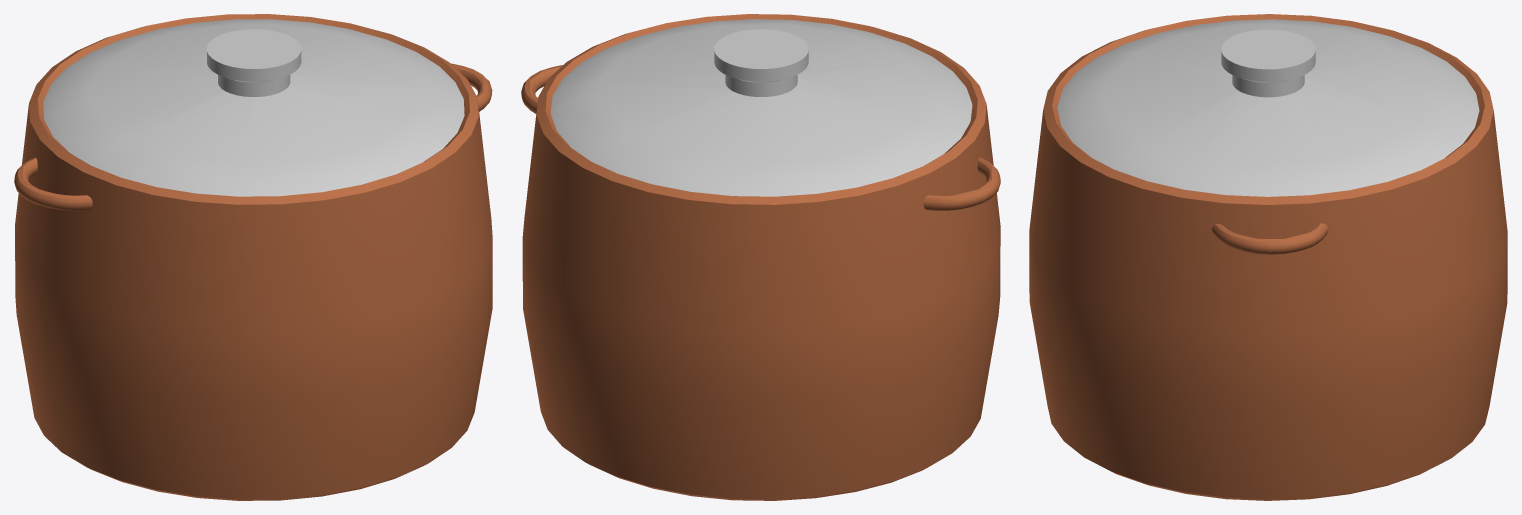
The model's file is Big Orange Pot.fbx.
The picture shows the model from 3 angles, left to right: view 1: azimuth 30°, elevation 25°; view 2: azimuth 150°, elevation 25°; view 3: azimuth 270°, elevation 25°; orthographic projection.
Visible parts, largest first — view 1: Big Orange Pot, Big Orange Pot Lid; view 2: Big Orange Pot, Big Orange Pot Lid; view 3: Big Orange Pot, Big Orange Pot Lid.
Boxes of the visible parts, x1,y1,x2,y2 form: Big Orange Pot: (14,14,492,500); Big Orange Pot Lid: (43,19,464,196); Big Orange Pot: (521,14,1000,500); Big Orange Pot Lid: (550,19,972,196); Big Orange Pot: (1029,14,1507,500); Big Orange Pot Lid: (1057,19,1479,196).
Size of the model in its own units: 33.18 by 37.13 by 27.62.
